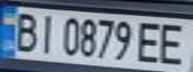0: (57, 14, 81, 57)
7: (93, 16, 115, 60)
8: (78, 15, 100, 58)
9: (112, 17, 139, 62)
B: (9, 9, 42, 53)
E: (154, 19, 193, 66), (133, 19, 166, 64)
I: (33, 11, 60, 54)
